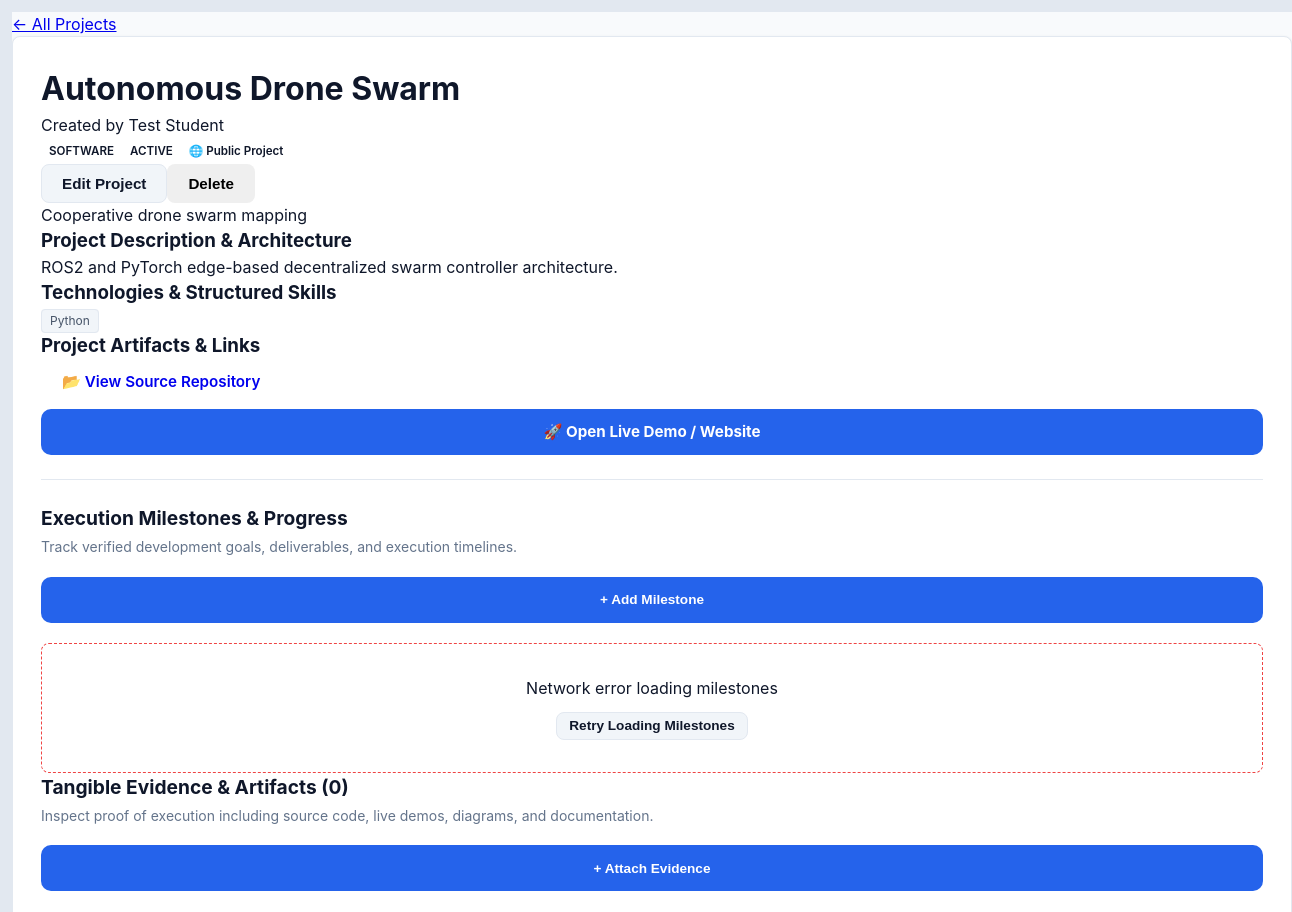
Test: ProjectDetailPage Integration (Milestone 2.0-C Phase 5) › renders milestone loading error and allows retry
Expected: the heading "Autonomous Drone Swarm" is shown, top-left (41, 69), bottom-right (460, 108)
Expected: the element with test id "milestones-error" is shown, top-left (41, 643), bottom-right (1263, 773)
Click retry
Click the button "Retry Loading Milestones".
click(652, 726)  # box top-left (556, 712), bottom-right (748, 740)
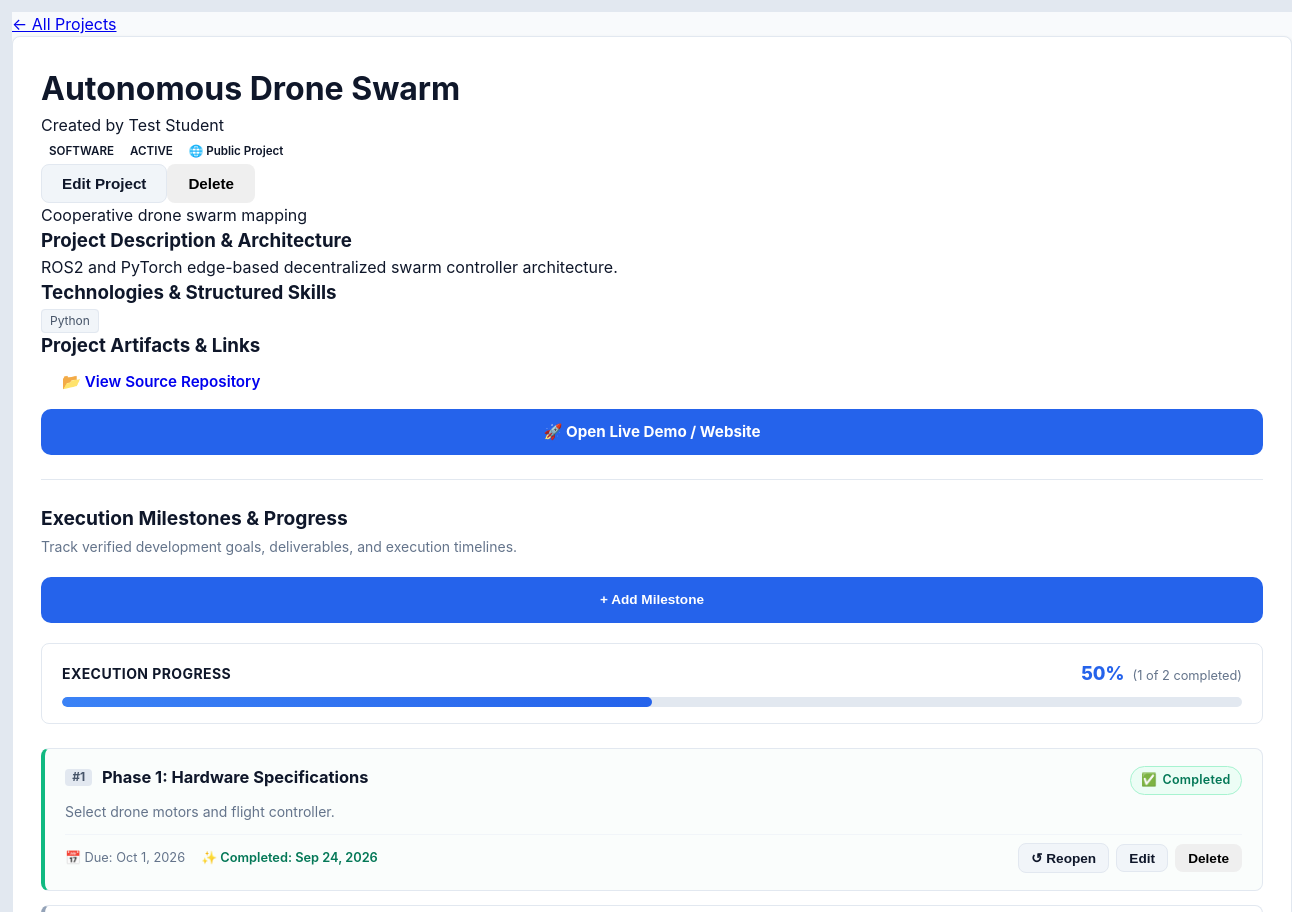
Result: the heading "Phase 1: Hardware Specifications" is shown at top-left (102, 766), bottom-right (368, 788)
Result: the text "50%" is shown at top-left (1081, 660), bottom-right (1124, 687)
